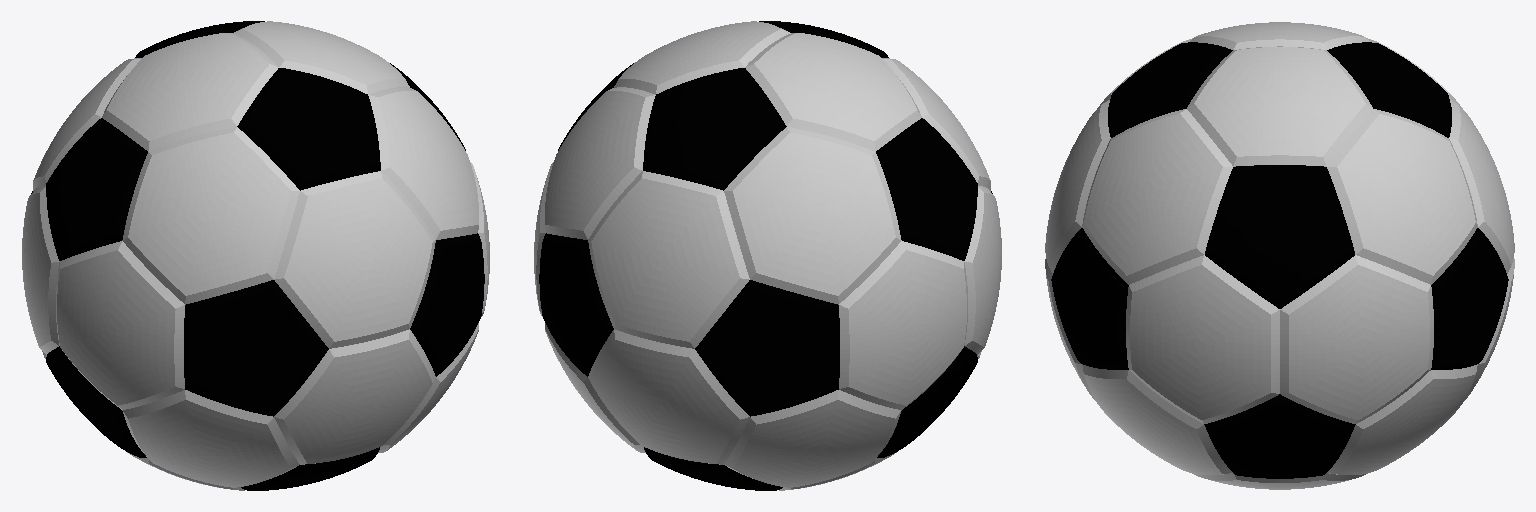
File: football.obj
The picture shows the model from 3 angles: view 1: azimuth 30°, elevation 25°; view 2: azimuth 150°, elevation 25°; view 3: azimuth 270°, elevation 25°; orthographic projection.
Parts seen in each view (by area): view 1: football; view 2: football; view 3: football.
Boxes of the visible parts, x1,y1,x2,y2 form: football: [22, 21, 489, 490]; football: [534, 21, 1001, 490]; football: [1045, 22, 1514, 489].
Bounding box in the file's own units: 7.74 × 7.74 × 7.74.